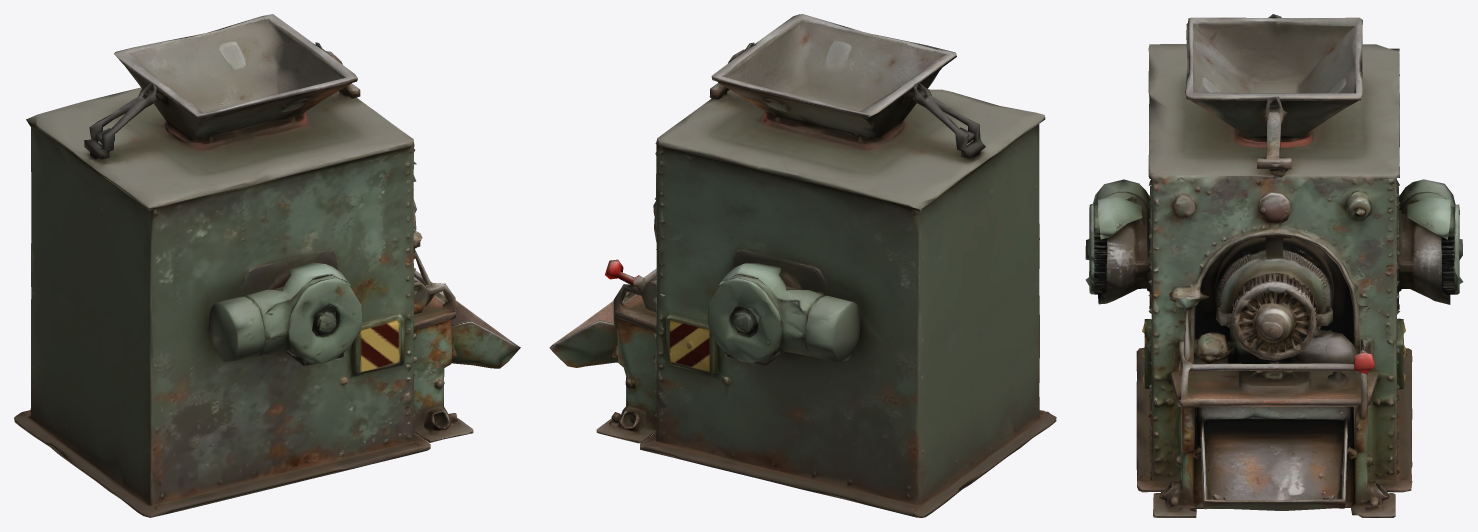
Rendered from recycler.glb.
The picture shows the model from 3 angles, left to right: view 1: azimuth 30°, elevation 25°; view 2: azimuth 150°, elevation 25°; view 3: azimuth 270°, elevation 25°; orthographic projection.
Visible parts, largest first — view 1: recycler; view 2: recycler; view 3: recycler.
Part boxes in pixels (x1,y1,x2,y2): recycler: (14,14,520,517); recycler: (549,14,1056,517); recycler: (1085,14,1463,517).
Size of the model in its own units: 2 by 1.74 by 1.59.
1 material, 1 textured.
